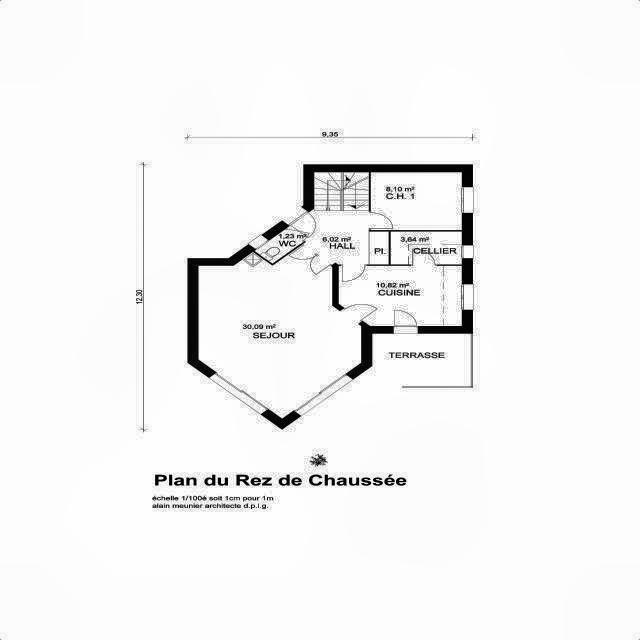room: (161, 213, 382, 440), (339, 266, 462, 327), (286, 208, 390, 266), (371, 172, 462, 230), (391, 232, 462, 264), (255, 225, 303, 267)
